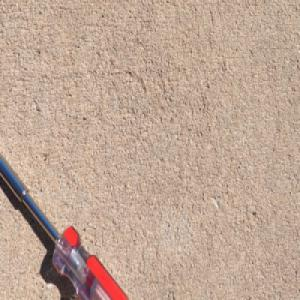Screwdriver: (0, 145, 129, 300)
